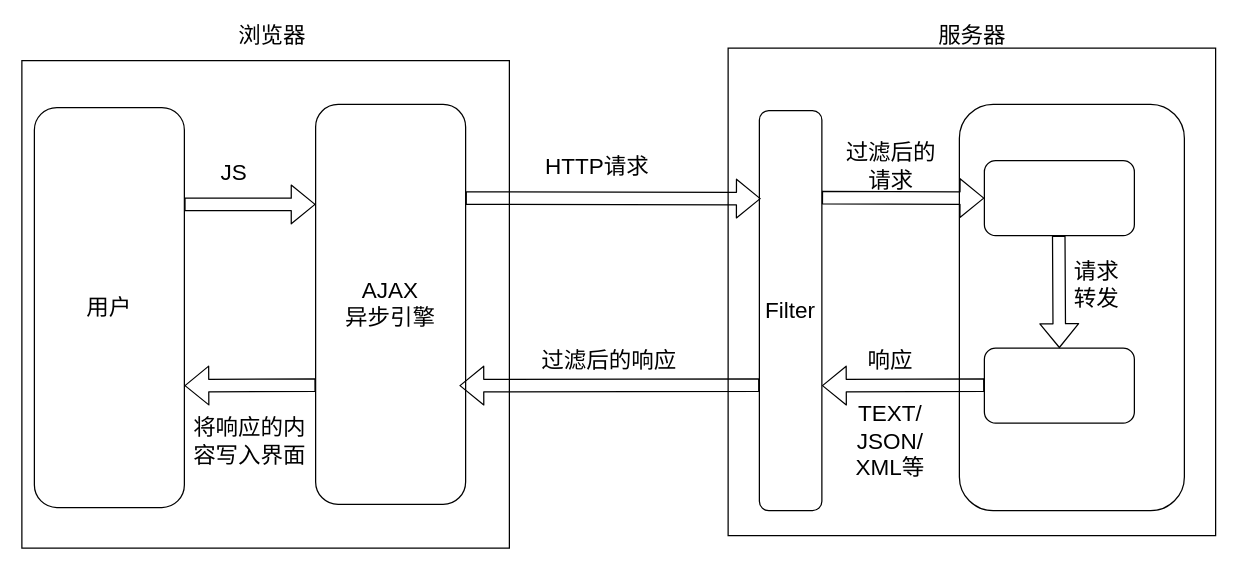
Image size: 1238x570. Some labels were removed from this diagram. The shapes that lost their labels are listed below. From the top down, each one's box as (x1, y1, x2, y2) in pixels, then its label:
(983, 159, 1134, 236): Sevlet1
(983, 347, 1134, 423): Servlet2
